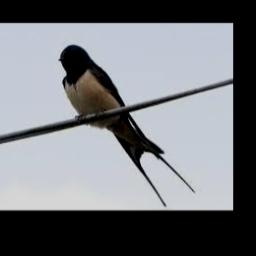Swallow: (58, 45, 195, 206)
